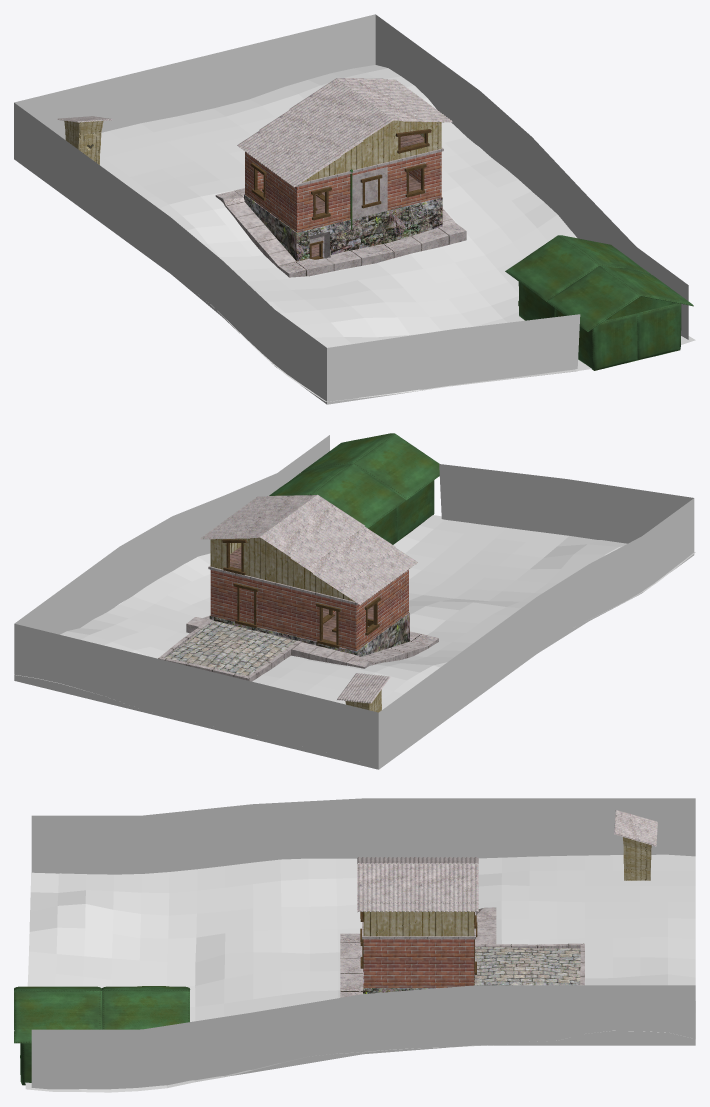
File: Garden.fbx
3 views of the same model, one above another, from view 1: azimuth 30°, elevation 25°; view 2: azimuth 150°, elevation 25°; view 3: azimuth 270°, elevation 25° (orthographic). The views are drawn at different scales.
Parts seen in each view (by area): view 1: Wall, Garden, House, Garage, RoofTile, DoorFrame, WallSegment, Toilette; view 2: Wall, Garden, House, RoofTile, Garage, DoorFrame, Toilette; view 3: Wall, Garden, House, Garage, RoofTile, Toilette.
Boxes of the visible parts, x1=… form: Wall: x1=14, y1=14, x2=688, y2=404; Garden: x1=100, y1=65, x2=695, y2=401; House: x1=215, y1=120, x2=466, y2=277; Garage: x1=505, y1=235, x2=693, y2=370; RoofTile: x1=237, y1=78, x2=452, y2=187; DoorFrame: x1=250, y1=129, x2=431, y2=259; WallSegment: x1=350, y1=167, x2=387, y2=229; Toilette: x1=57, y1=116, x2=112, y2=164; Wall: x1=14, y1=435, x2=694, y2=769; Garden: x1=14, y1=515, x2=695, y2=709; House: x1=158, y1=537, x2=438, y2=681; RoofTile: x1=200, y1=494, x2=417, y2=604; Garage: x1=269, y1=433, x2=439, y2=544; DoorFrame: x1=222, y1=539, x2=380, y2=648; Toilette: x1=337, y1=673, x2=390, y2=712; Wall: x1=31, y1=798, x2=695, y2=1089; Garden: x1=25, y1=854, x2=695, y2=1092; House: x1=340, y1=863, x2=584, y2=997; Garage: x1=14, y1=986, x2=190, y2=1085; RoofTile: x1=357, y1=857, x2=478, y2=912; Toilette: x1=614, y1=810, x2=657, y2=880.
Size of what is drawn, in the model's own units: 2038 by 807 by 3082.
